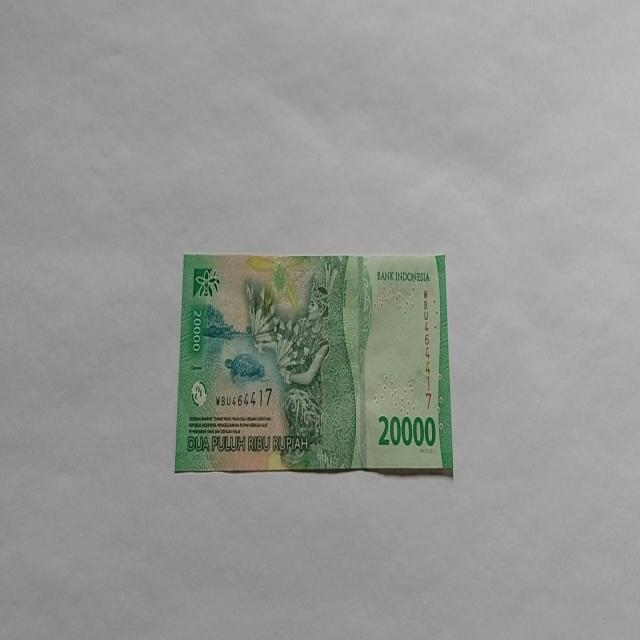dua puluh ribu rupiah: (173, 251, 454, 477)
